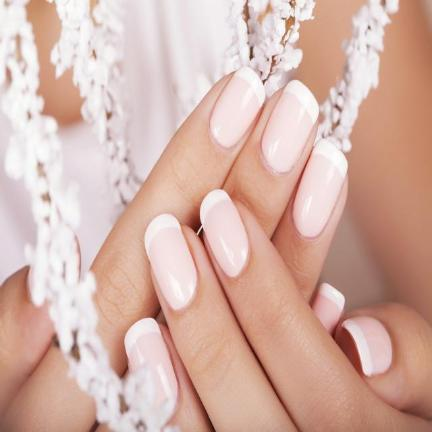Nail: (124, 318, 178, 422), (292, 139, 348, 237), (261, 80, 320, 173), (144, 214, 197, 310), (208, 65, 265, 151), (200, 189, 249, 277), (342, 316, 393, 376), (311, 282, 345, 334)
